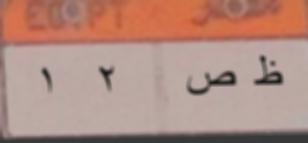1: (36, 63, 58, 100)
2: (93, 62, 122, 97)
Thaa: (250, 54, 285, 95)
saad: (183, 63, 238, 97)
